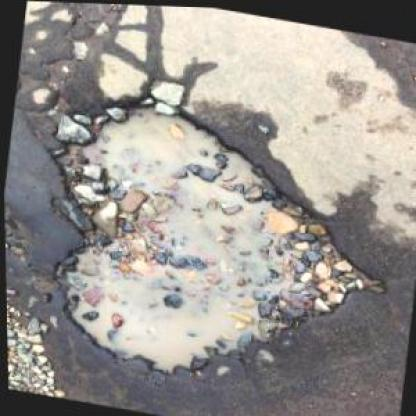pothole: (15, 76, 406, 409)
